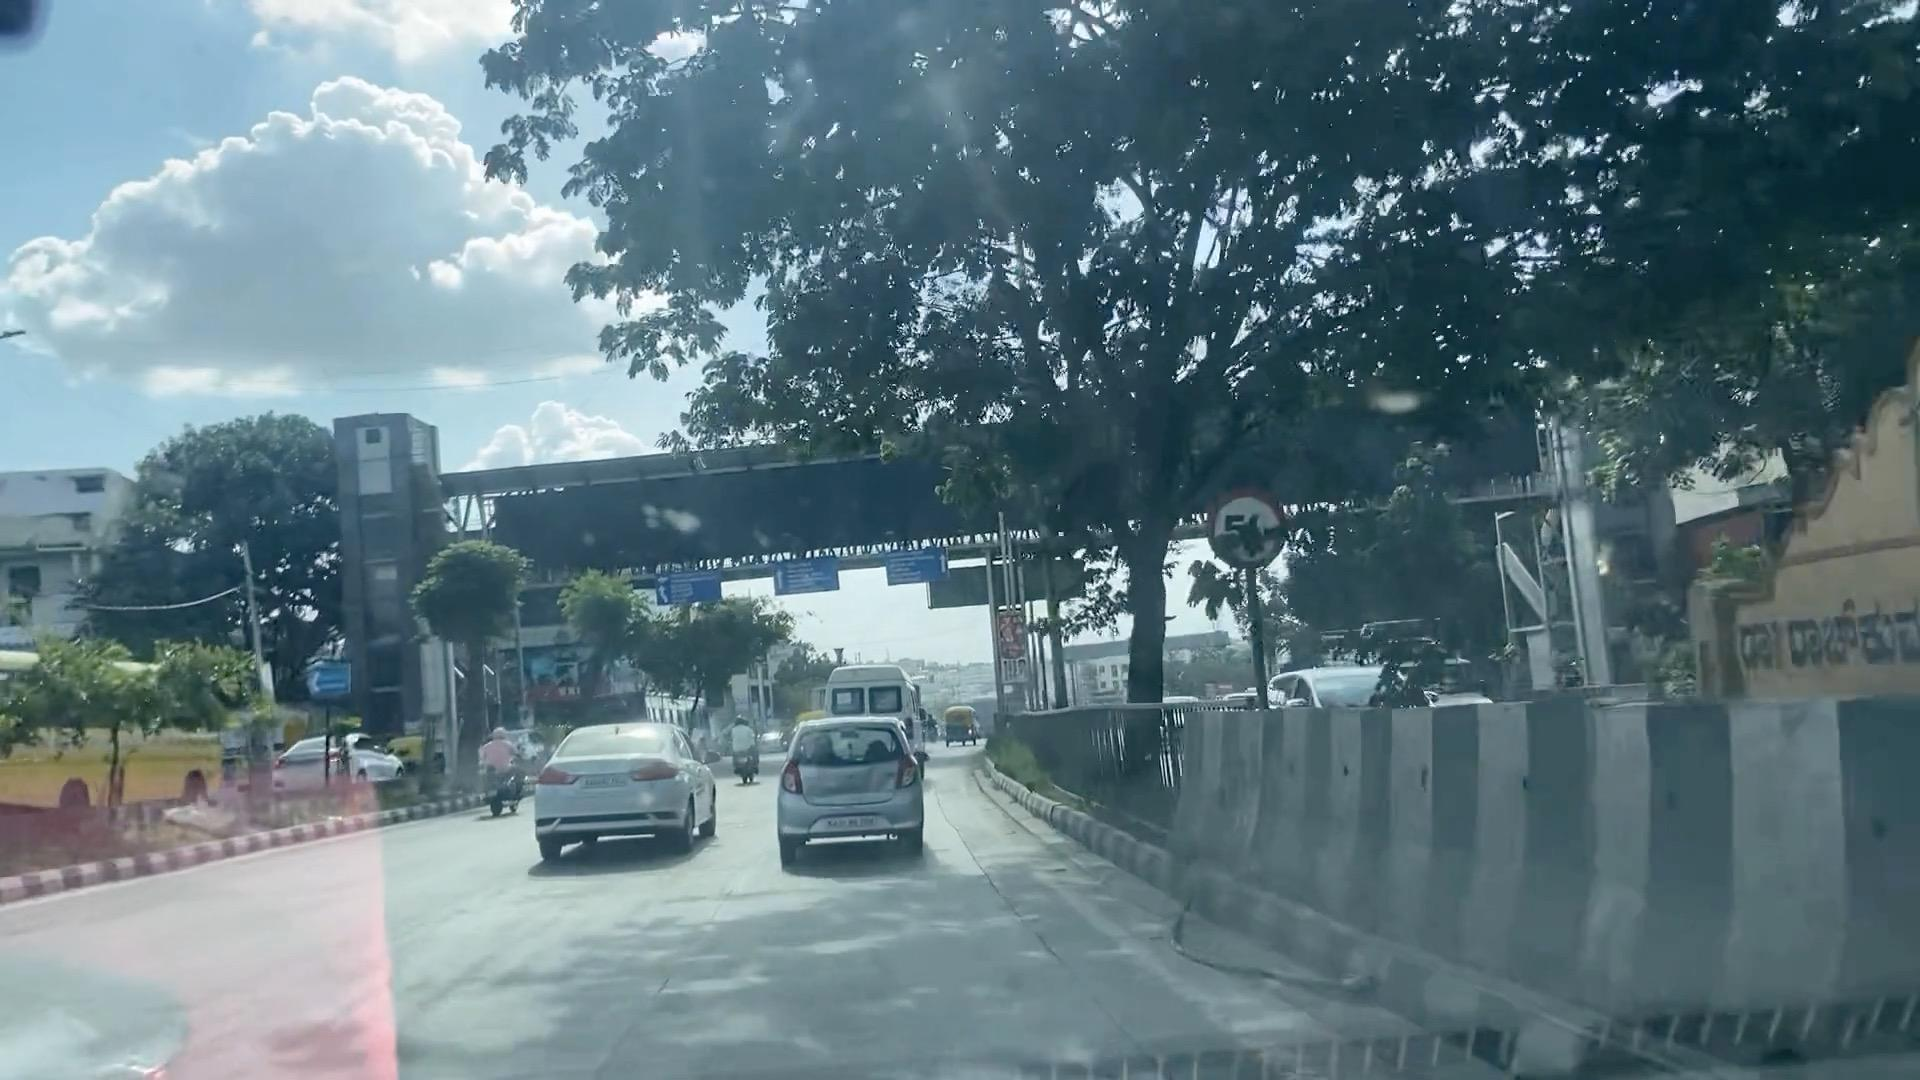LMV: (545, 720, 712, 870), (782, 709, 907, 840)
